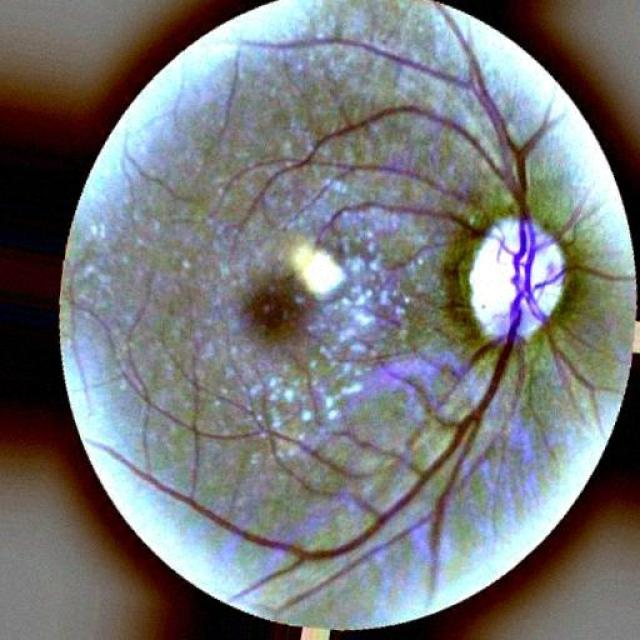Macula: (245, 279, 310, 360)
Nerves: (129, 327, 519, 564), (280, 28, 533, 244), (318, 196, 479, 244)
Optic Disk: (469, 220, 573, 344)
